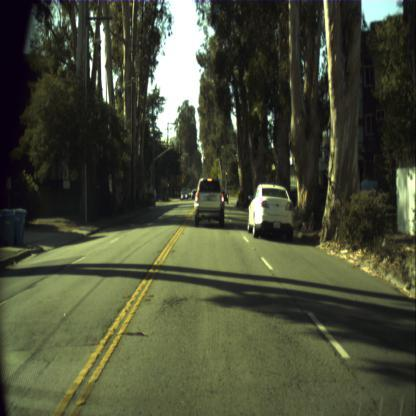Red: (203, 156, 205, 164), (225, 171, 226, 179)
